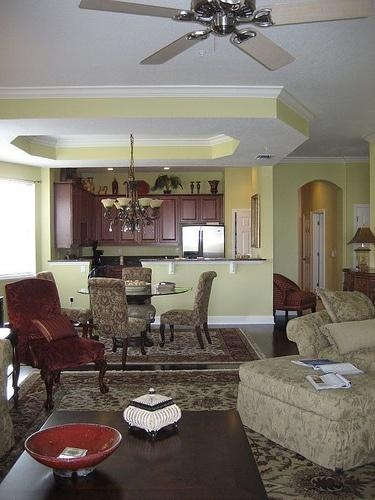chair: (4, 277, 109, 406), (86, 277, 146, 355), (161, 270, 219, 344), (38, 271, 91, 336), (273, 274, 317, 312), (121, 267, 153, 284)
sofa: (285, 292, 375, 380)
